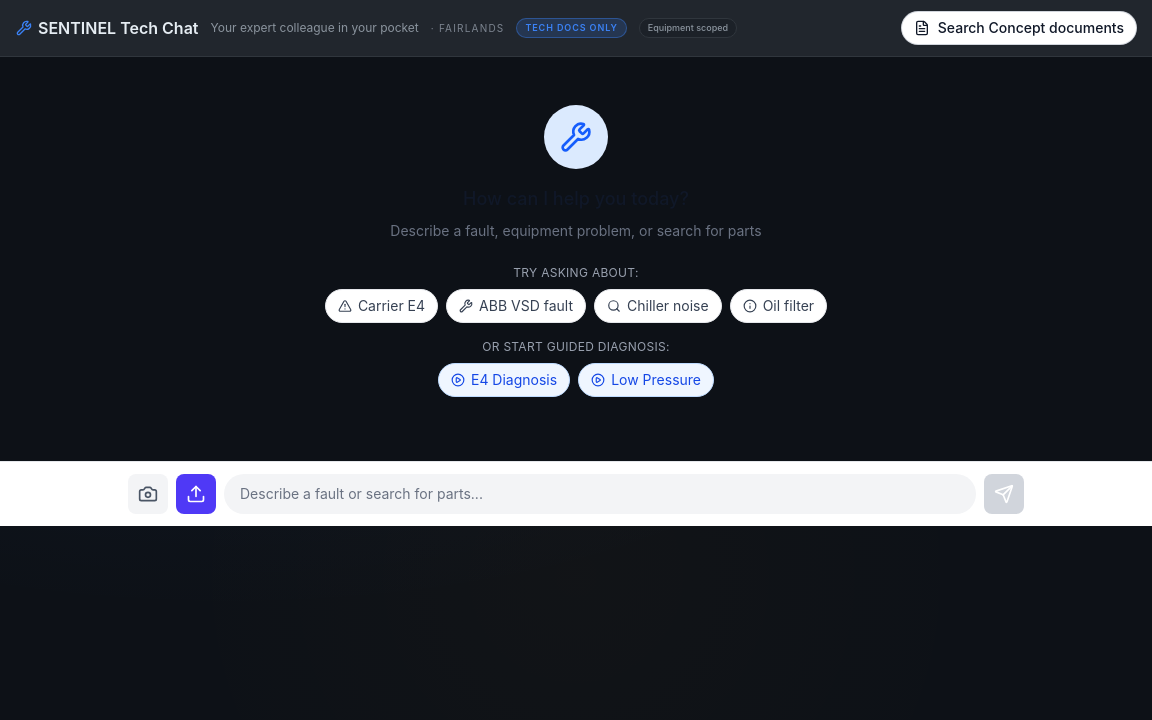
TechnicianChat Concept mode › disables placeholder Concept links that are not browser-openable
Click the button "Search Concept documents".
click(1019, 28)  # box [902,12,1136,44]
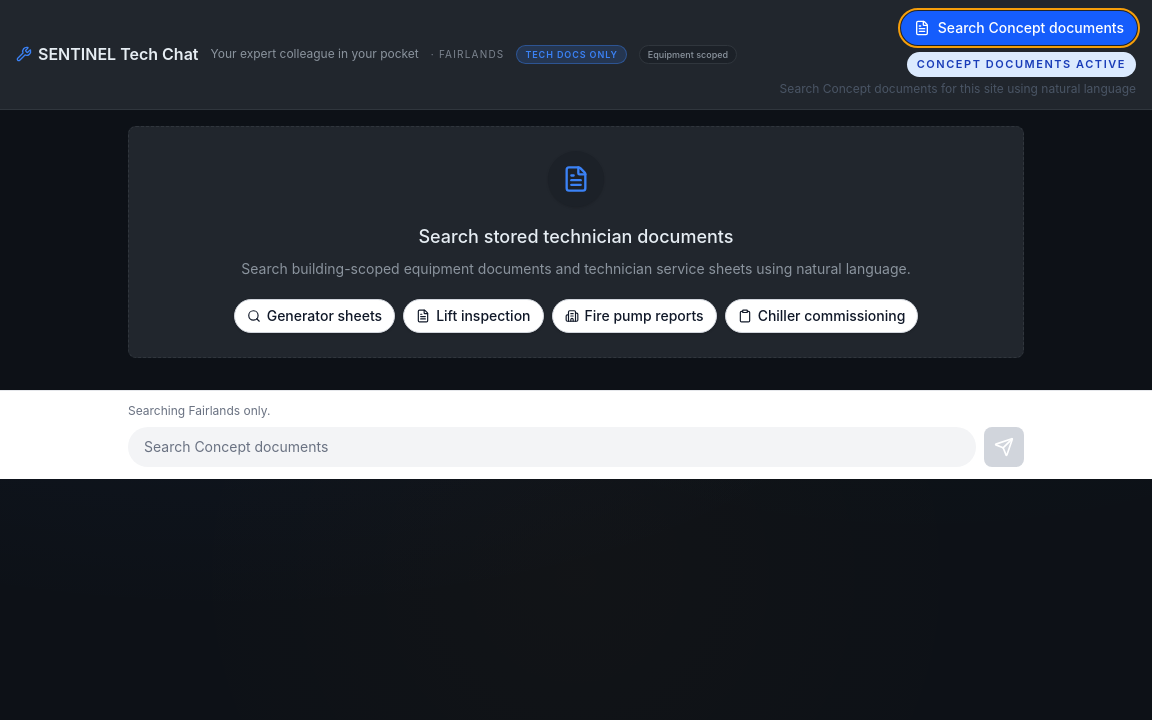
Type "generator service sheets 2024" into the field with placeholder "Search Concept documents".
click(552, 446); type("generator service sheets 2024")  # box [128,426,976,466]
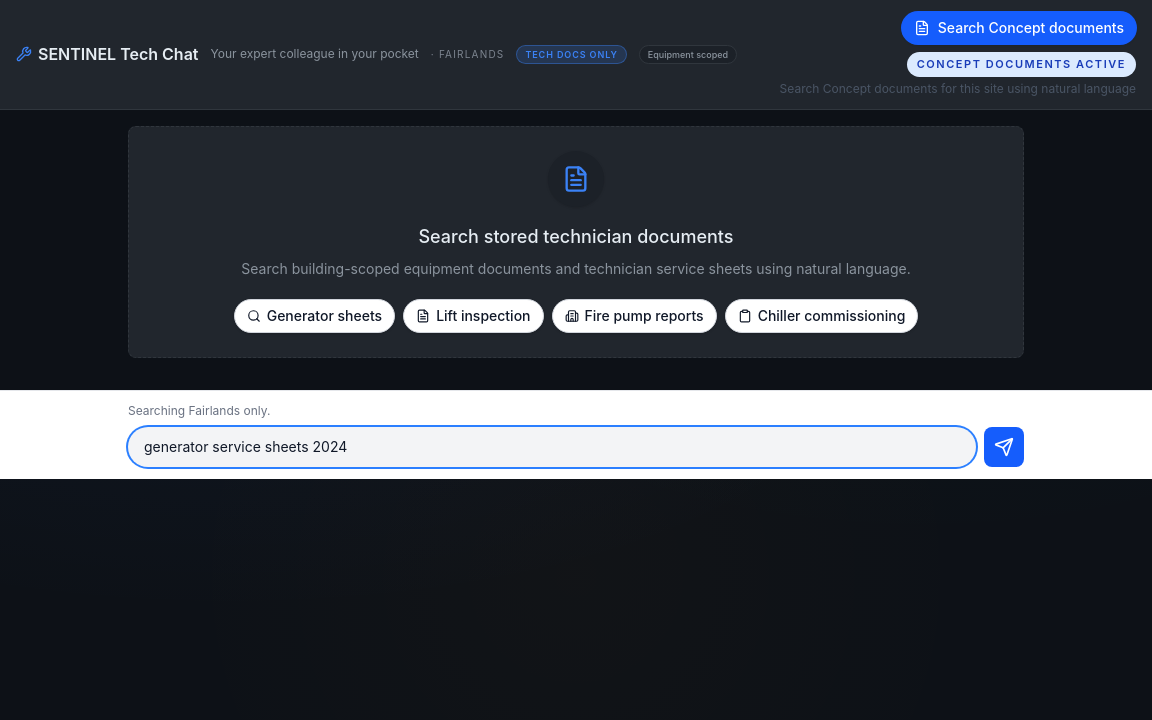
Click the button named "Run Concept documents search".
click(1004, 446)  # box [984,426,1024,466]
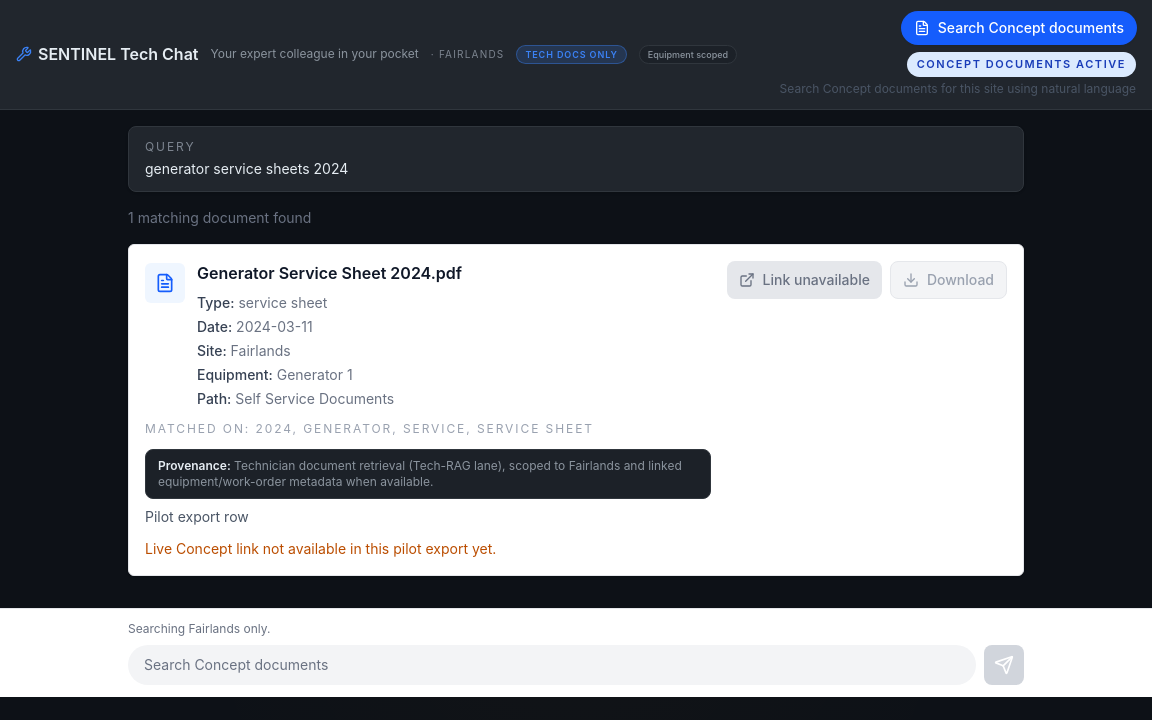
Expected: the heading "Generator Service Sheet 2024.pdf" is shown, [197,262,462,282]
Expected: the text "Live Concept link not available in this pilot export yet." is shown, [145,540,496,556]
Expected: the button "Link unavailable" is disabled, [727,260,882,298]
